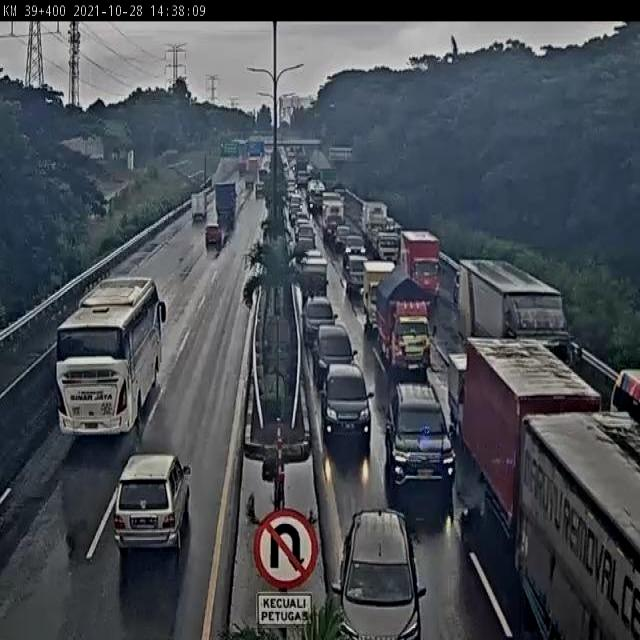Bus: (53, 274, 168, 438)
Car: (329, 504, 426, 640), (385, 383, 455, 500), (113, 452, 192, 551), (321, 363, 373, 446), (315, 324, 356, 392), (303, 294, 337, 348), (343, 251, 369, 295), (335, 225, 356, 255), (344, 235, 366, 262), (296, 229, 316, 255), (205, 226, 223, 247)
Truck: (516, 408, 639, 640), (465, 333, 601, 542), (458, 255, 584, 373), (376, 266, 438, 376), (399, 230, 446, 300), (361, 258, 398, 335), (446, 351, 468, 436), (298, 257, 329, 306), (368, 228, 400, 262), (362, 200, 387, 237), (214, 181, 238, 218), (321, 201, 343, 238), (306, 178, 328, 213), (190, 189, 207, 221), (243, 170, 254, 190), (248, 156, 258, 173)
